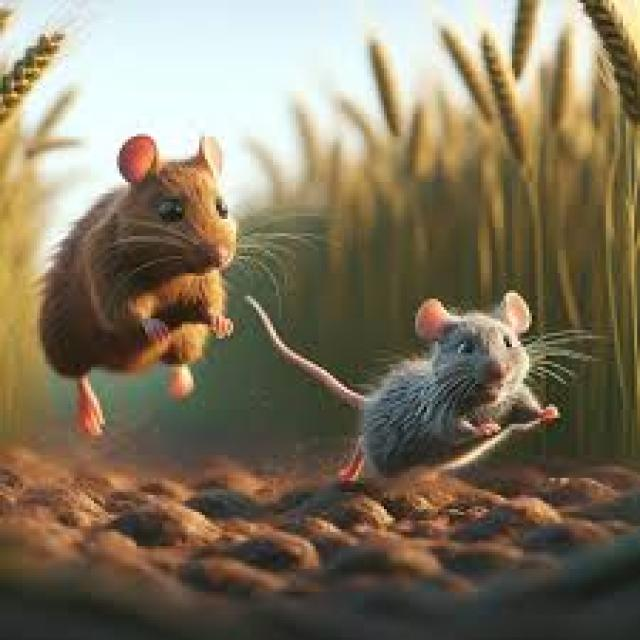rat: (34, 131, 313, 435), (344, 287, 606, 524)
